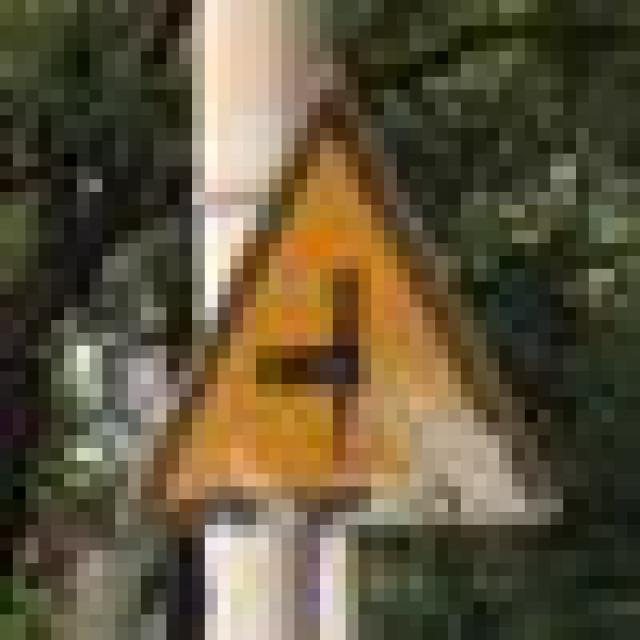side road left: (132, 88, 548, 525)
